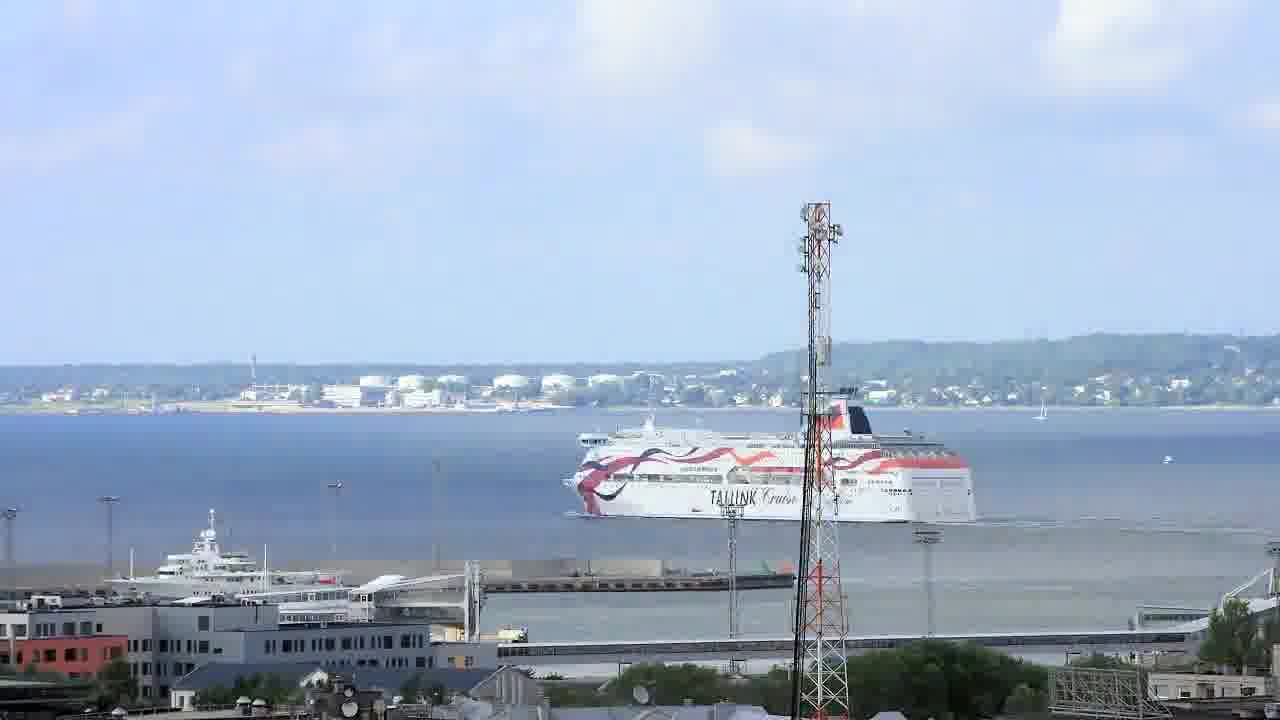type-3: (550, 372, 987, 530), (96, 508, 381, 605)
